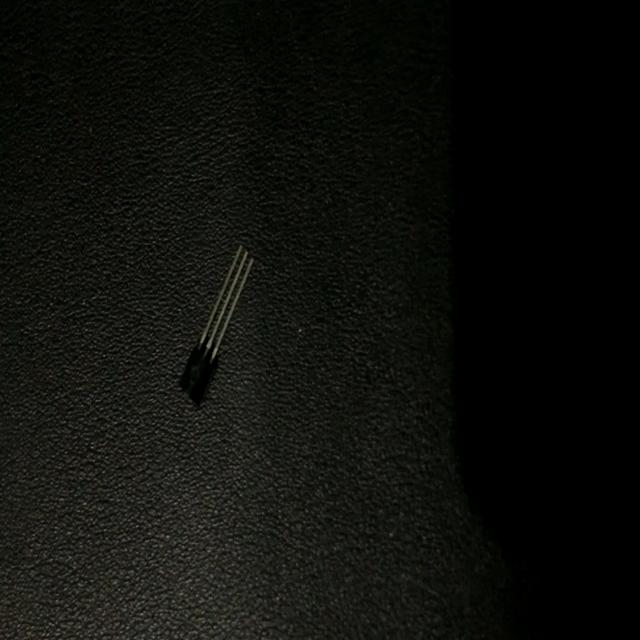BJT: (176, 237, 257, 416)
